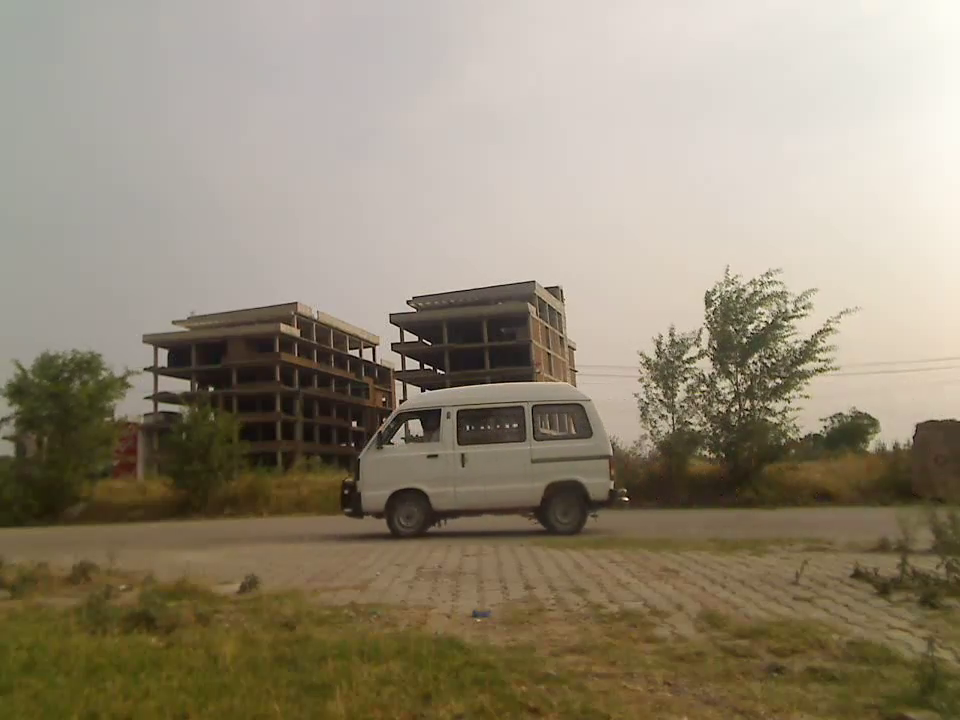van: (330, 370, 639, 554)
